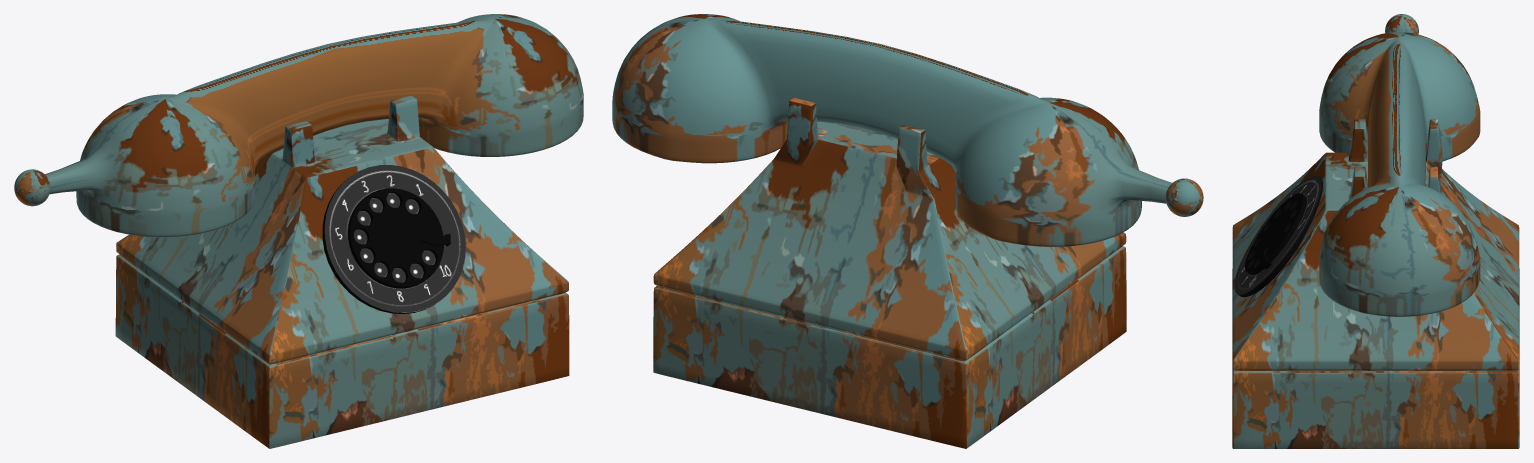
File: Old_Phone_Stylised.fbx
The picture shows the model from 3 angles, left to right: view 1: azimuth 30°, elevation 25°; view 2: azimuth 150°, elevation 25°; view 3: azimuth 270°, elevation 25°; orthographic projection. The views are drawn at different scales.
Visible parts, largest first — view 1: Phone_Base, Phone, Number_Dial, Movable_Dial; view 2: Phone_Base, Phone; view 3: Phone_Base, Phone, Number_Dial, Movable_Dial.
Boxes of the visible parts, x1=… form: Phone_Base: x1=115, y1=95, x2=569, y2=448; Phone: x1=14, y1=14, x2=583, y2=237; Number_Dial: x1=322, y1=165, x2=465, y2=313; Movable_Dial: x1=348, y1=188, x2=443, y2=288; Phone_Base: x1=653, y1=98, x2=1126, y2=448; Phone: x1=612, y1=14, x2=1203, y2=246; Phone_Base: x1=1232, y1=119, x2=1519, y2=448; Phone: x1=1319, y1=14, x2=1480, y2=316; Number_Dial: x1=1234, y1=175, x2=1322, y2=297; Movable_Dial: x1=1245, y1=193, x2=1307, y2=274.
Bounding box in the file's own units: 83.69 × 43.62 × 40.3.
4 materials, 2 textured.
